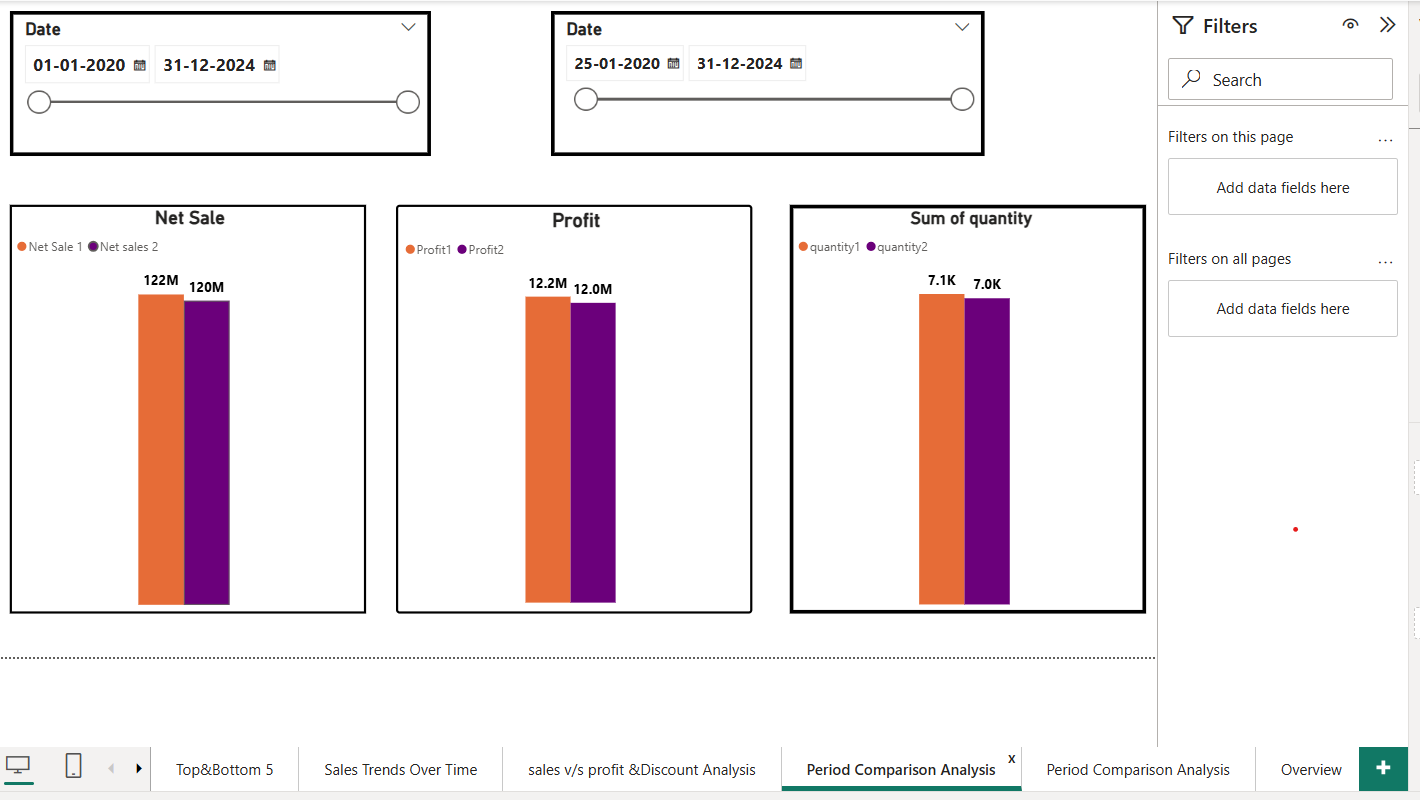

The dashboard page shown, as its layout file describes it:
{"tool":"powerbi","page":{"name":"Period Comparison Analysis","canvas":[1280,720],"ordinal":3},"visuals":[{"type":"slicer","fields":{"Values":["Date table 1.Date"]},"box":[20.6,11,462.4,159.2],"z":0},{"type":"slicer","fields":{"Values":["Date table 2.Date"]},"box":[614.8,11,476.2,159.2],"z":1000},{"type":"clusteredColumnChart","title":"Net Sale","fields":{"Y":["Sum(Fact Table.Net Sale )","Date table 1.Sum of Net sales"]},"box":[20.6,223.7,391.1,448.7],"z":2000},{"type":"clusteredColumnChart","title":"Profit","fields":{"Y":["Sum(Fact Table.Profit)","Measure Table.Sum Profit"]},"box":[444.6,223.7,391.1,448.7],"z":3000},{"type":"clusteredColumnChart","title":"Sum of quantity","fields":{"Y":["Sum(Fact Table.Units Sold)","Measure Table.Sum of quantity"]},"box":[876.8,223.7,391.1,448.7],"z":4000}]}

Visuals, with their boxes on the page's 1280x720 design canvas (x1, y1, x2, y2). These are canvas units, not pixel positions in the 1420x800 screenshot, which may show the page scaled, cropped or inside an application window:
slicer - Date table 1.Date: crop(21, 11, 483, 170)
slicer - Date table 2.Date: crop(615, 11, 1091, 170)
"Net Sale" clusteredColumnChart: crop(21, 224, 412, 672)
"Profit" clusteredColumnChart: crop(445, 224, 836, 672)
"Sum of quantity" clusteredColumnChart: crop(877, 224, 1268, 672)
